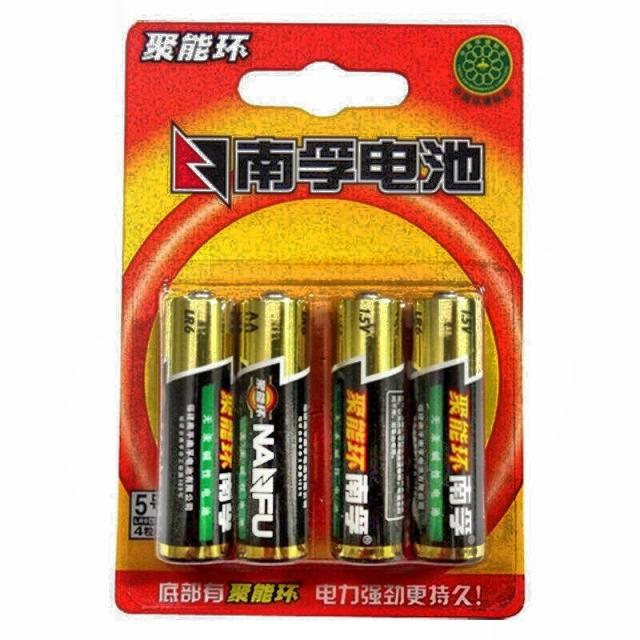Non-Valuable Waste - Batteries: (156, 291, 234, 562), (409, 292, 485, 562), (331, 294, 405, 561), (235, 294, 308, 561)
